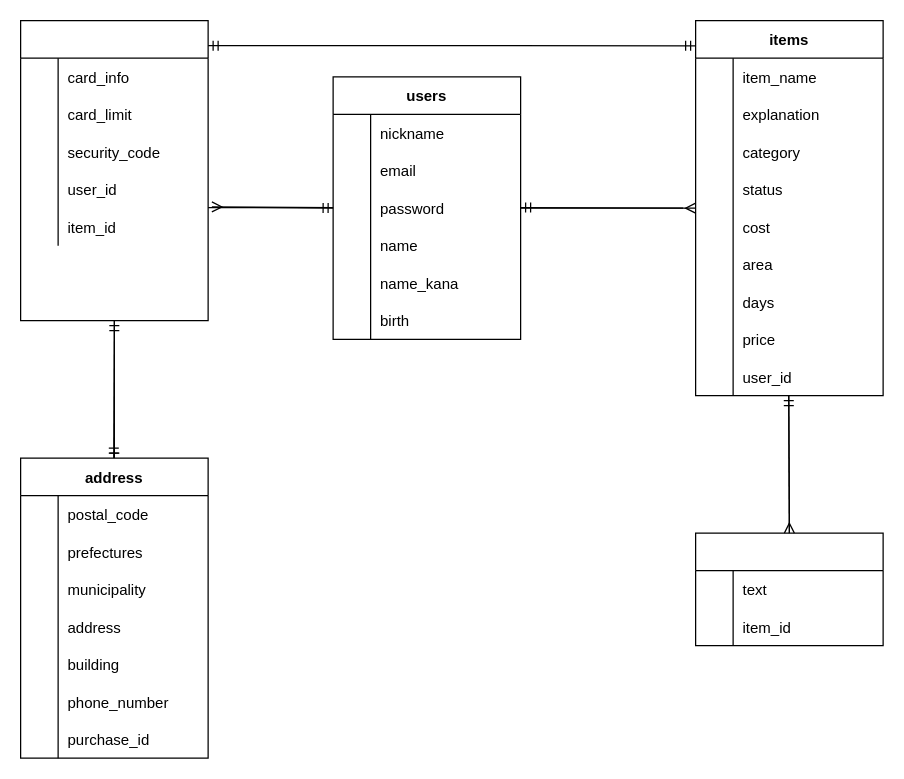
This 904x779 diagram has some shape labels left out. Each missing label, with the box of its shape:
comments: (694, 532, 883, 646)
purchase: (19, 19, 208, 321)
